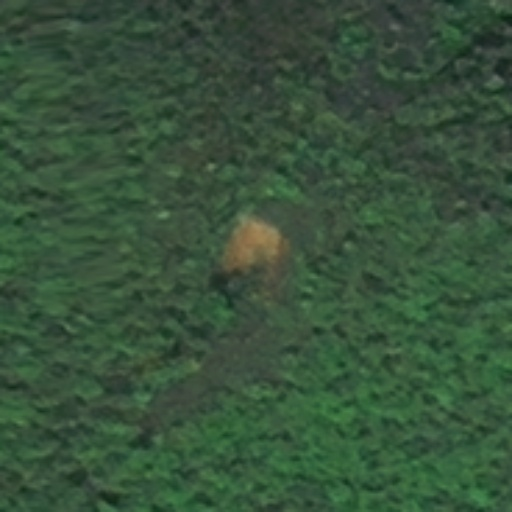landslide: (220, 213, 290, 274)
